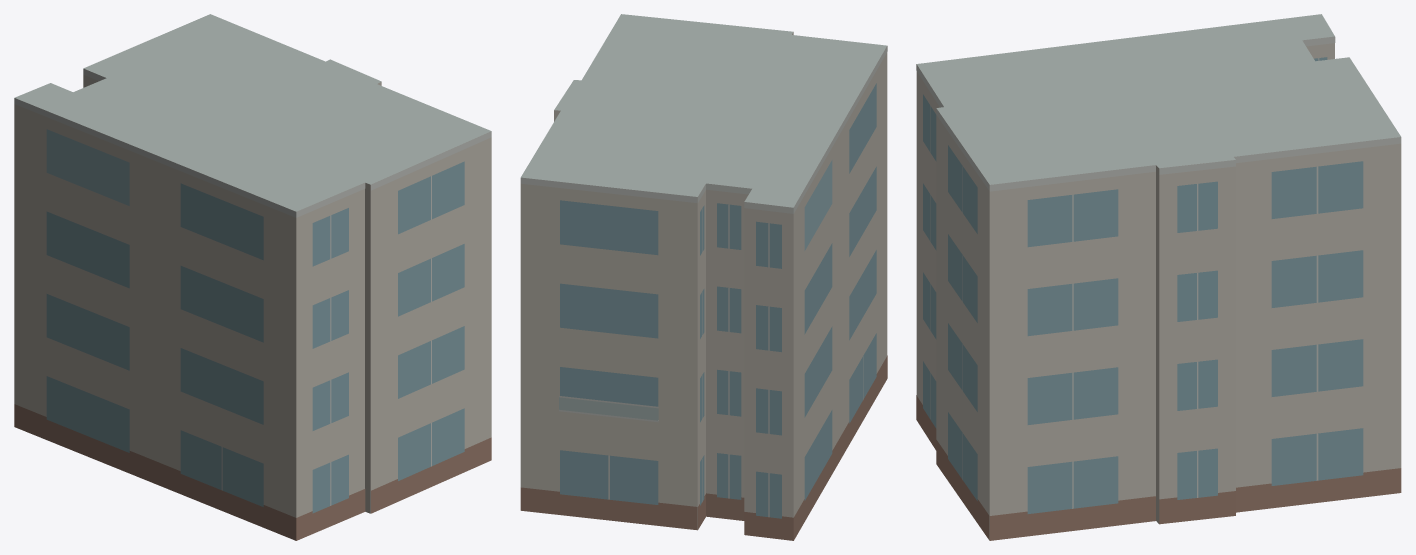
The model's file is survey-upis-32751376.glb.
3 views of the same model, side by side, from view 1: azimuth 30°, elevation 25°; view 2: azimuth 150°, elevation 25°; view 3: azimuth 270°, elevation 25° (orthographic). The views are drawn at different scales.
Visible parts, largest first — view 1: survey-upis-32751376.tmp; view 2: survey-upis-32751376.tmp; view 3: survey-upis-32751376.tmp.
Part boxes in pixels (x1,y1,x2,y2): survey-upis-32751376.tmp: (14,14,491,540); survey-upis-32751376.tmp: (520,14,887,540); survey-upis-32751376.tmp: (916,14,1401,540).
Bounding box in the file's own units: 13.5 × 13.1 × 16.18.
